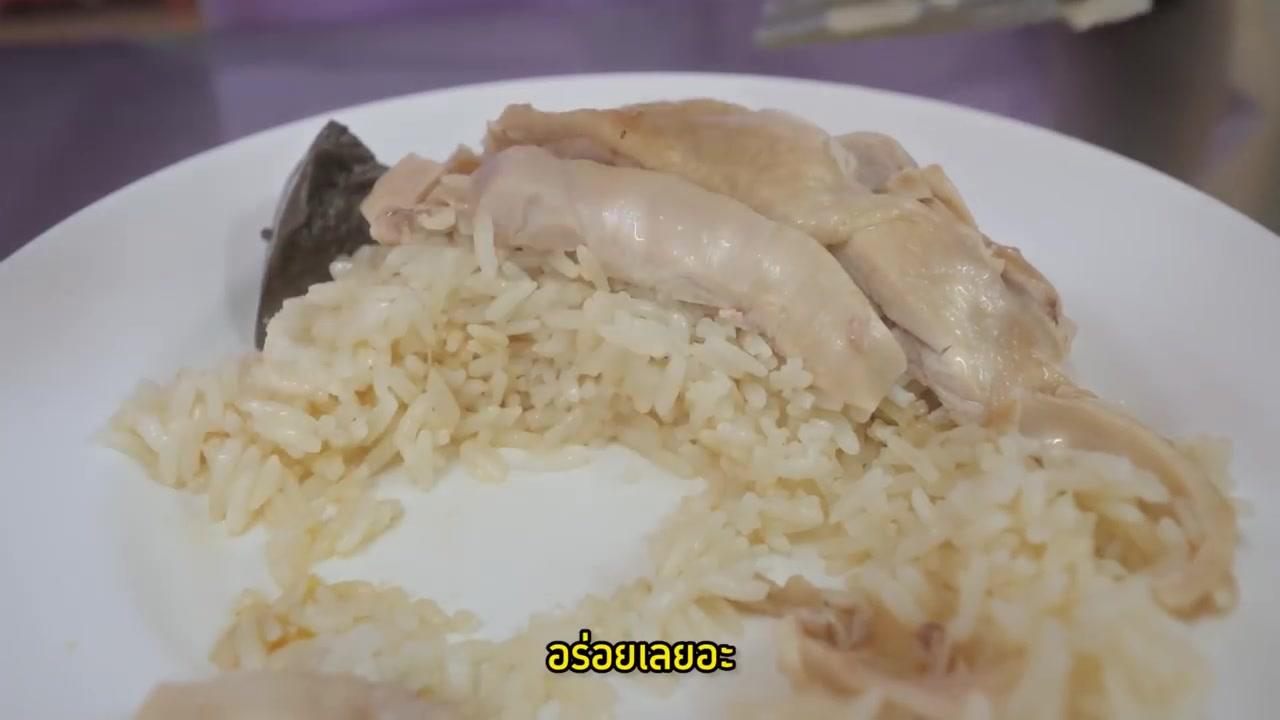text-label: (542, 625, 740, 674)
